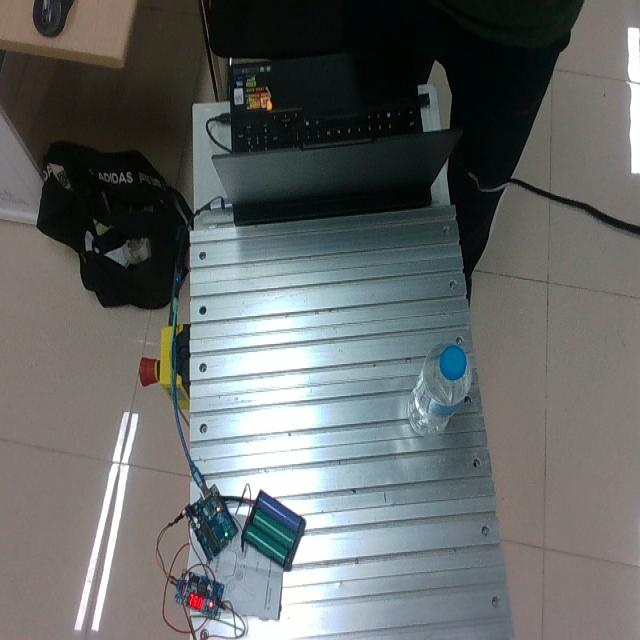lavie: (406, 338, 472, 434)
